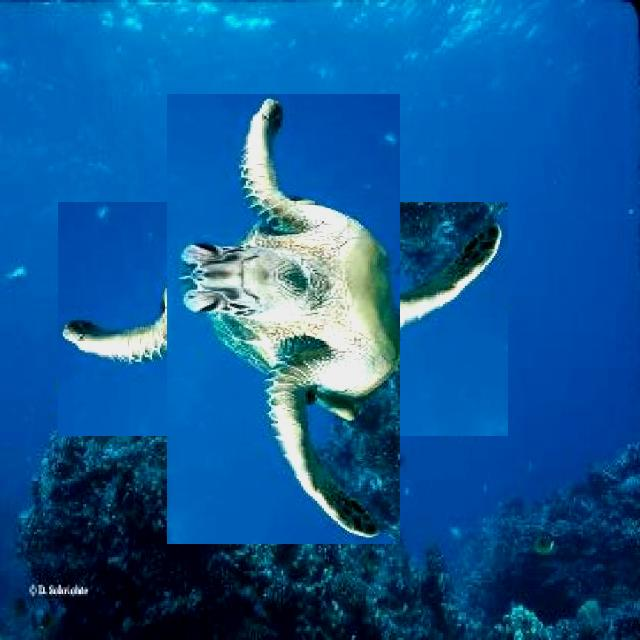Sea turtle: (112, 148, 454, 490)
